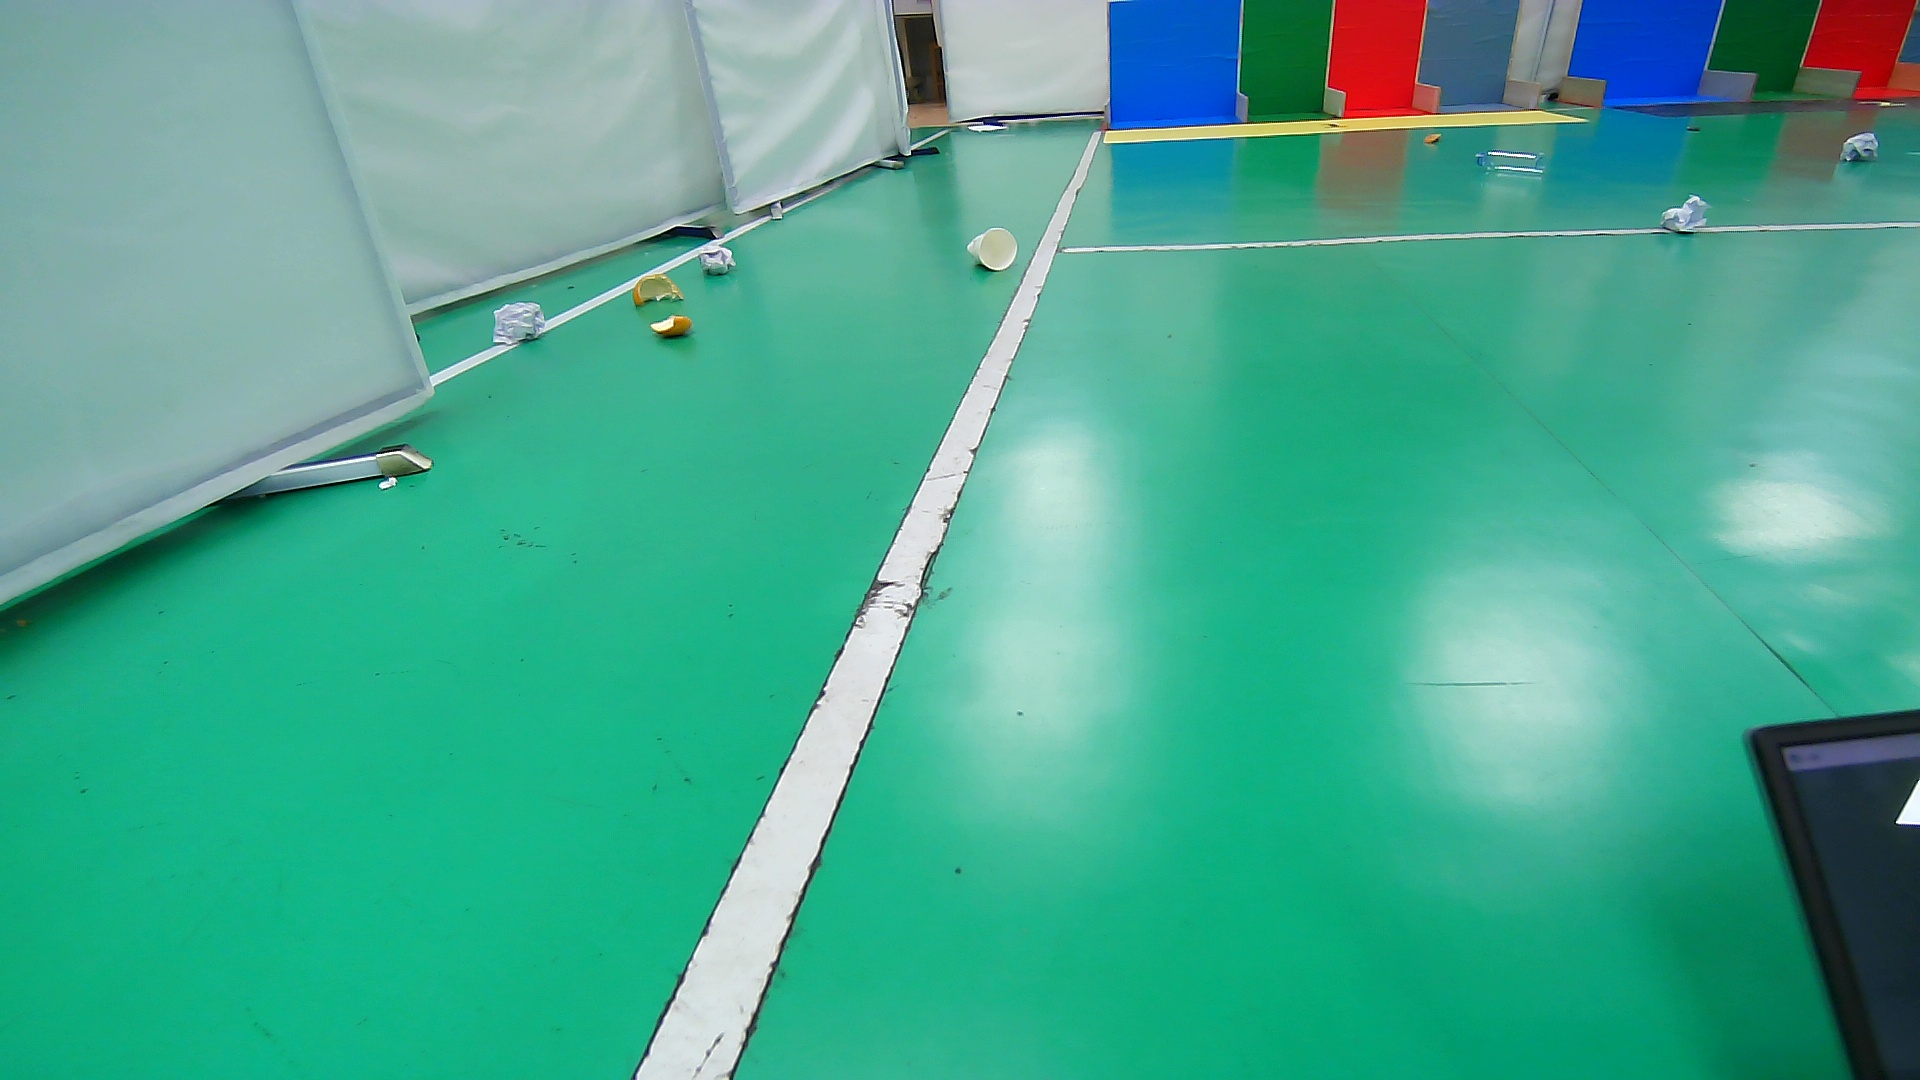battery: (1675, 117, 1712, 140)
bottle: (1472, 146, 1552, 179)
orangepeel: (628, 274, 688, 310), (647, 310, 695, 343), (1414, 127, 1452, 150)
papercup: (965, 227, 1021, 272)
spitball: (491, 298, 549, 348), (1655, 194, 1716, 239), (696, 241, 738, 280), (1837, 131, 1882, 166)
